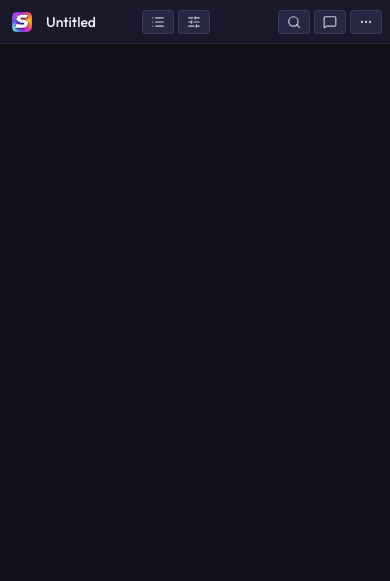
Test: Toolbar compact-width actions › exposes copy, paste, and export resolution in the mobile overflow
The image size is (390, 581).
Click the button titled "More actions" at (366, 22), box [350,10,382,34]
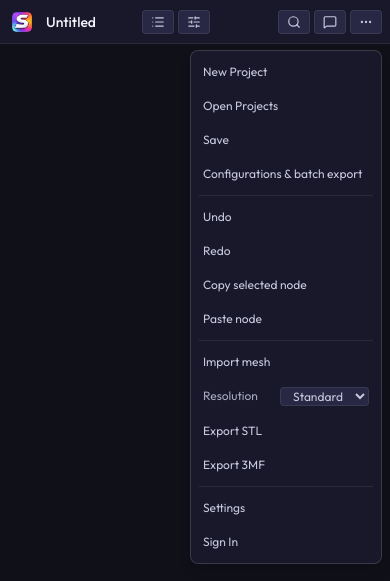
Expected: the button "Copy selected node" is shown
Expected: the button "Paste node" is shown, [191,302,381,336]
Expected: the number of fields labelled "Export resolution" is 2
Click the button "Copy selected node" at (286, 284), box [191,268,381,302]
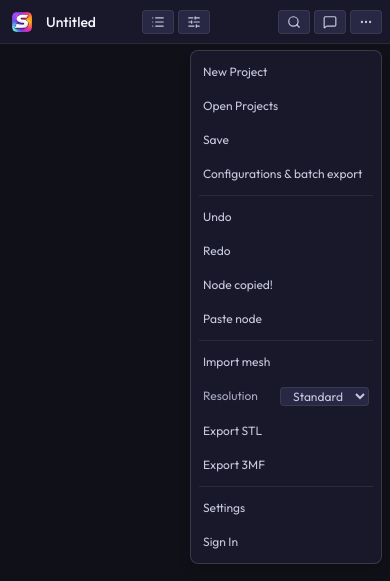
Expected: the button "Node copied!" is shown, [191,268,381,302]
